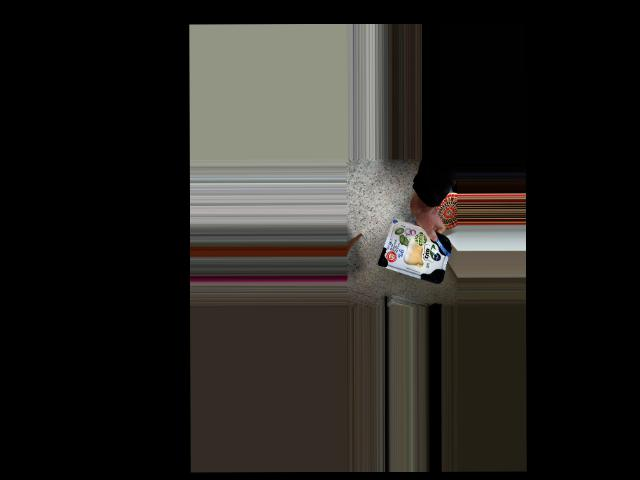cheese: (377, 220, 452, 284)
